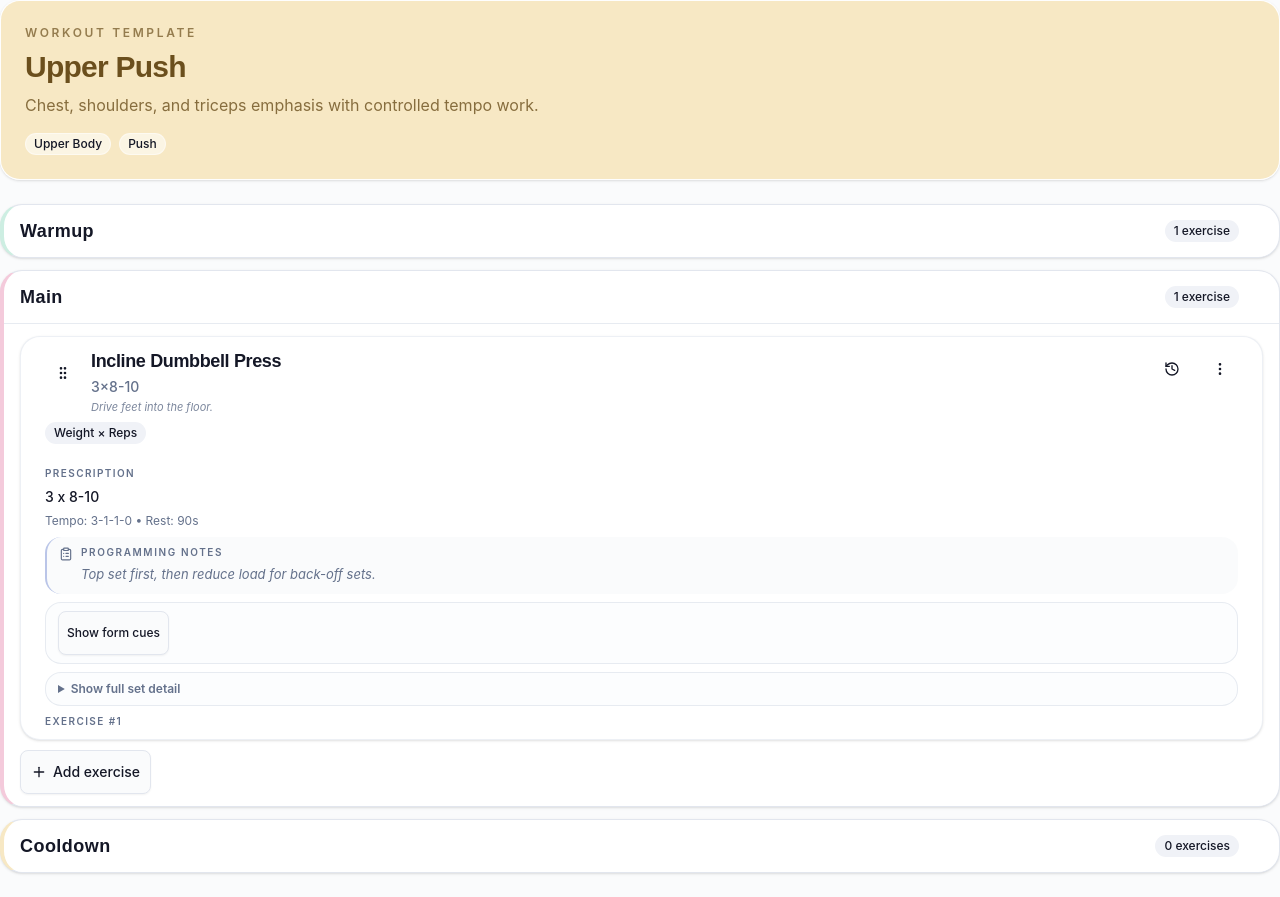
Test: WorkoutTemplateDetail › opens unified exercise detail modal from template exercise history actions
Click the button named "Open Incline Dumbbell Press history". click: click(1172, 369)
box: [1150,347,1194,391]
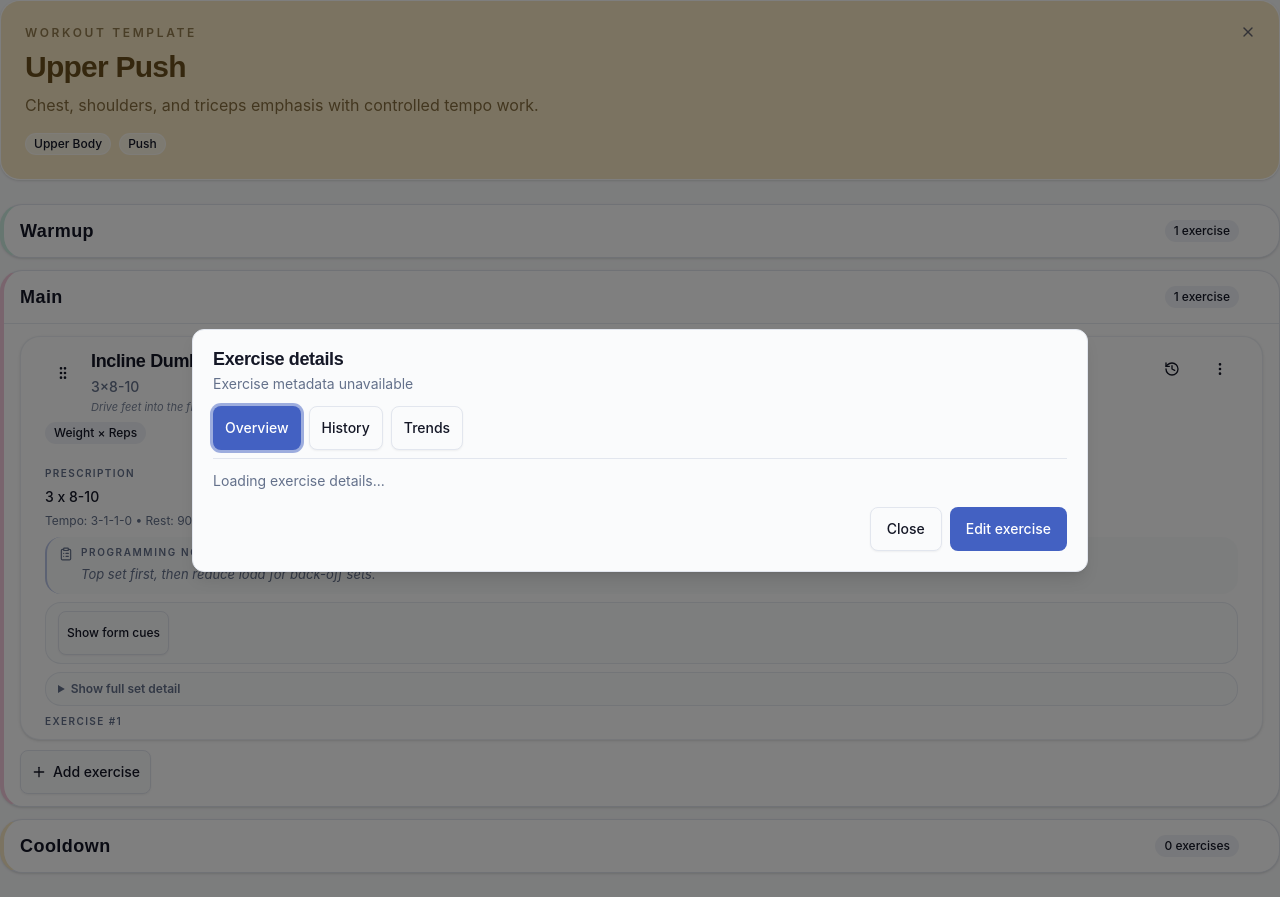
Result: the heading "Exercise details" is shown at [213,348,343,368]
Result: the button "Edit exercise" is shown at [950,506,1067,550]
Click the tab "History". click: click(346, 428)
box: [308,406,383,450]
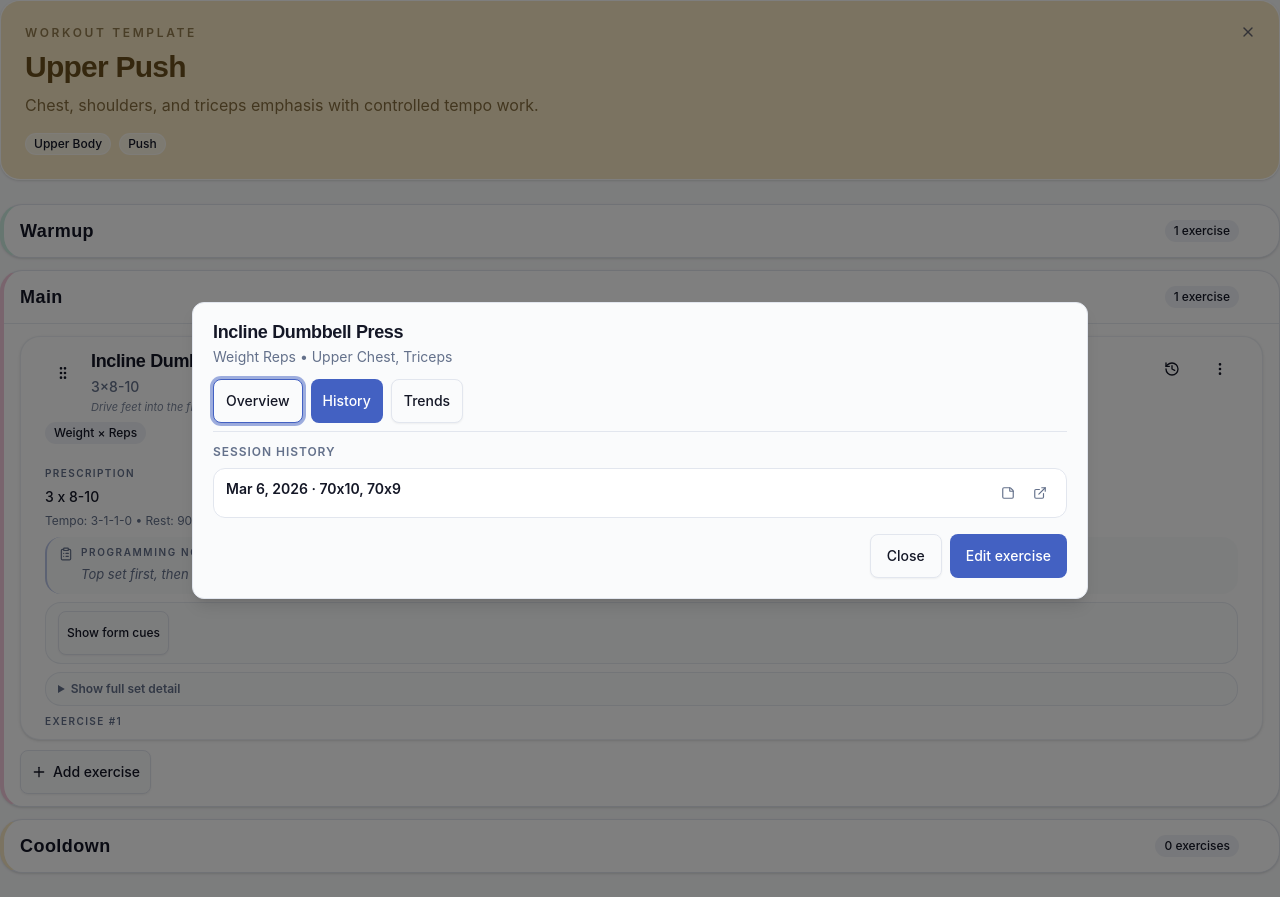
Result: the text "Mar 6, 2026 · 70x10, 70x9" is shown at [226,478,401,498]
Click the button "Close". click: click(906, 556)
box: [870,534,942,578]
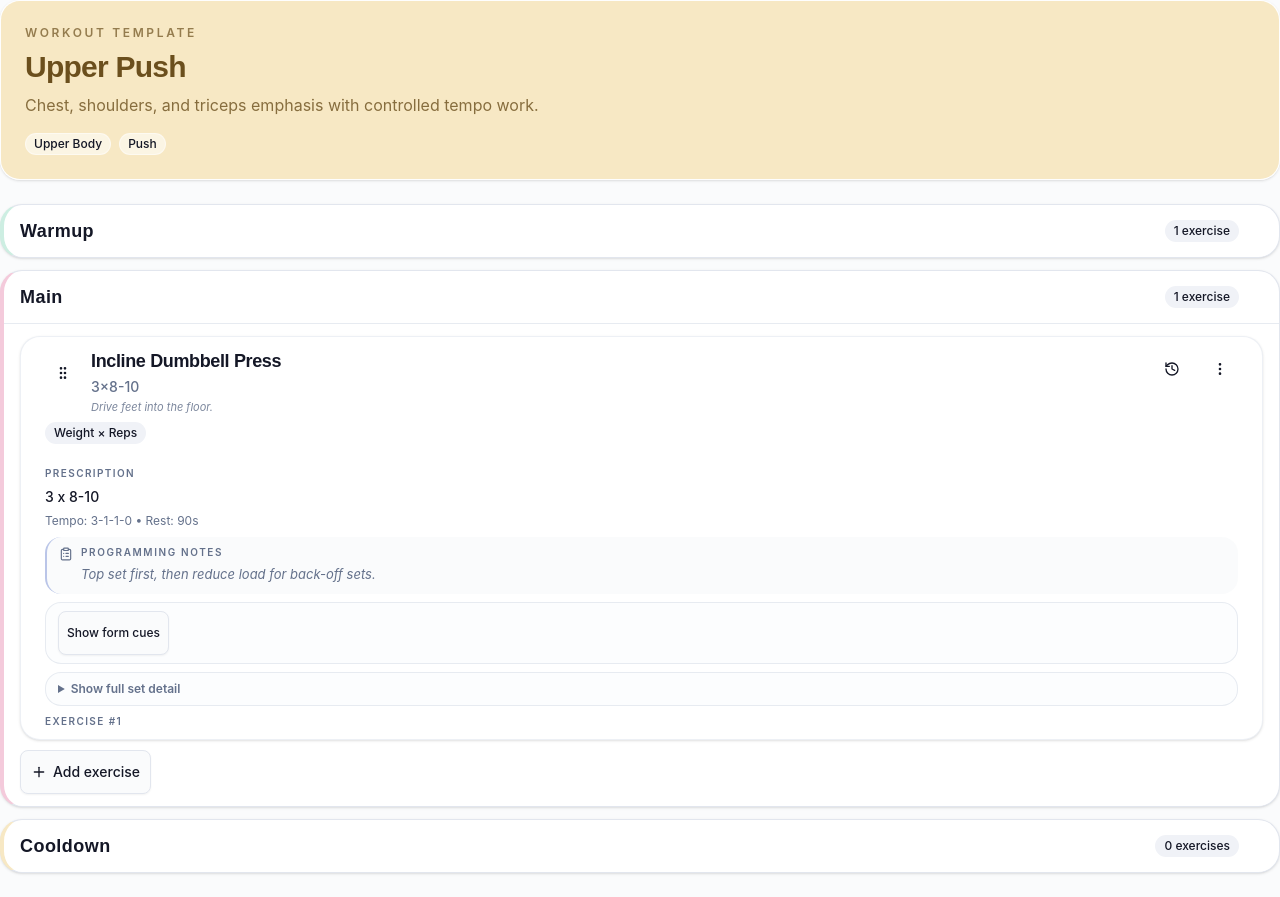
Result: the dialog is gone
